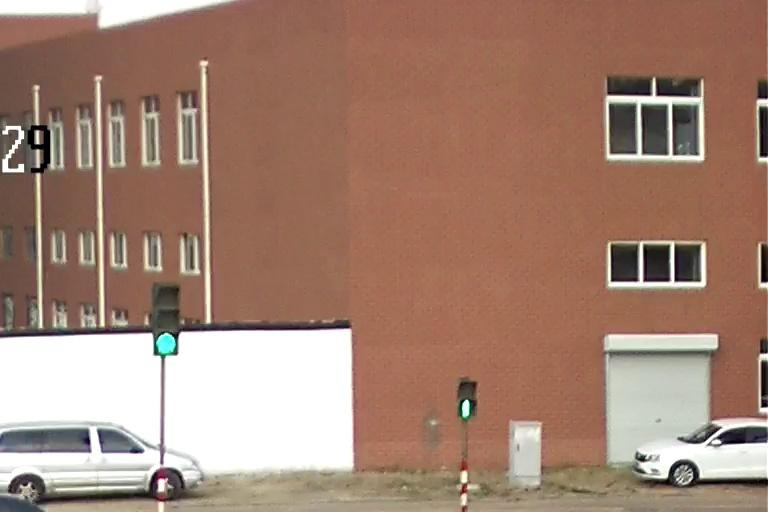green: (154, 333, 178, 357)
greenpeople: (456, 398, 475, 420)
